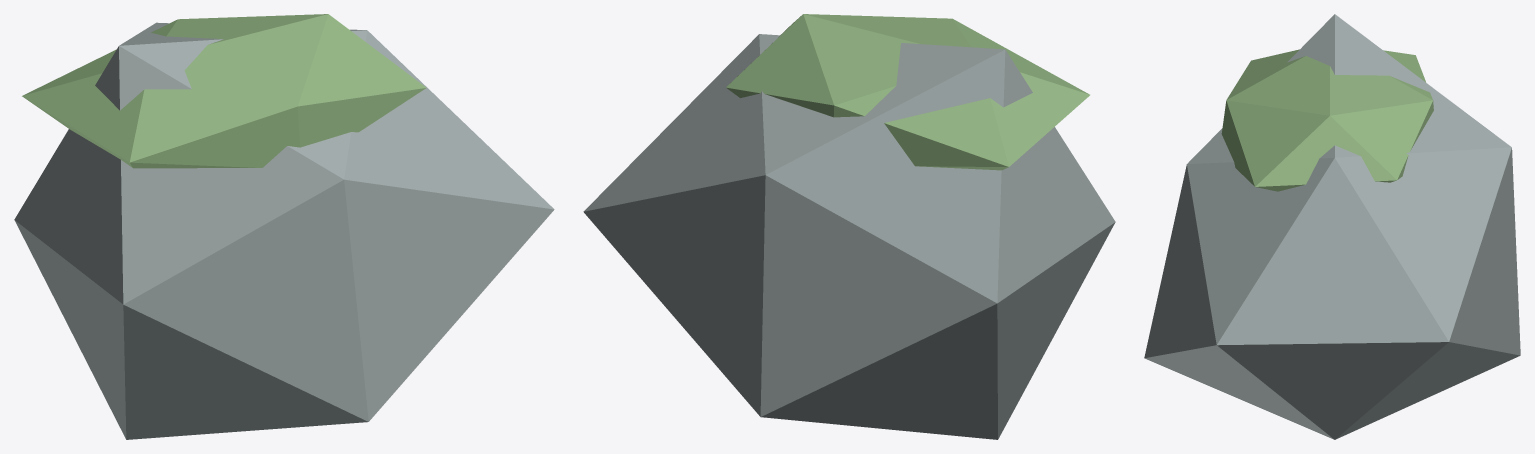
File: rock_moss_a.glb
3 renders of one model, left to right at view 1: azimuth 30°, elevation 25°; view 2: azimuth 150°, elevation 25°; view 3: azimuth 270°, elevation 25°, orthographic. The views are drawn at different scales.
Visible parts, largest first — view 1: rock, moss_cap; view 2: rock, moss_cap; view 3: rock, moss_cap.
Part boxes in pixels (<box>): rock: <box>14,22,554,439</box>; moss_cap: <box>22,14,426,168</box>; rock: <box>583,34,1115,439</box>; moss_cap: <box>726,14,1089,170</box>; rock: <box>1144,14,1520,439</box>; moss_cap: <box>1221,49,1433,191</box>.
Size of the model in its own units: 0.888 by 0.7982 by 0.795.
